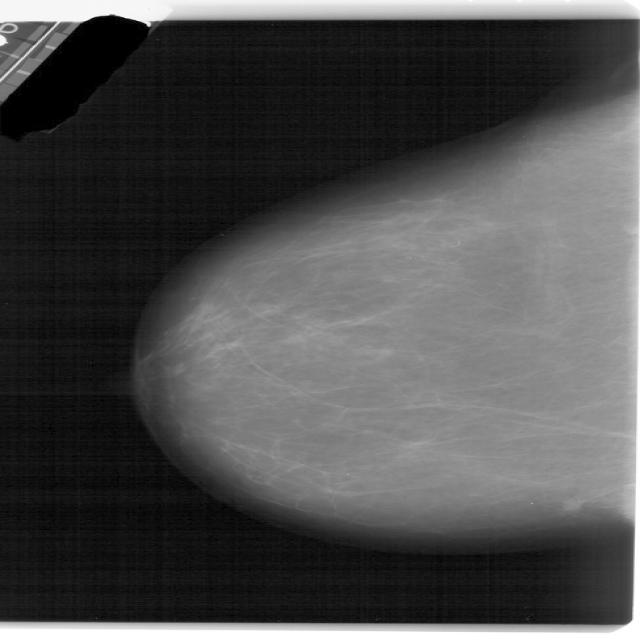tumour: (560, 495, 583, 512)
